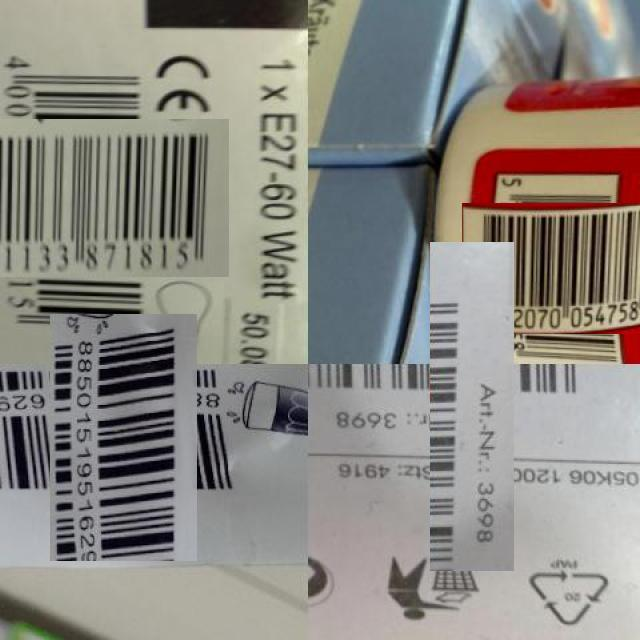Barcode: (0, 83, 194, 313), (369, 303, 576, 510), (25, 339, 222, 537), (477, 188, 638, 349)
